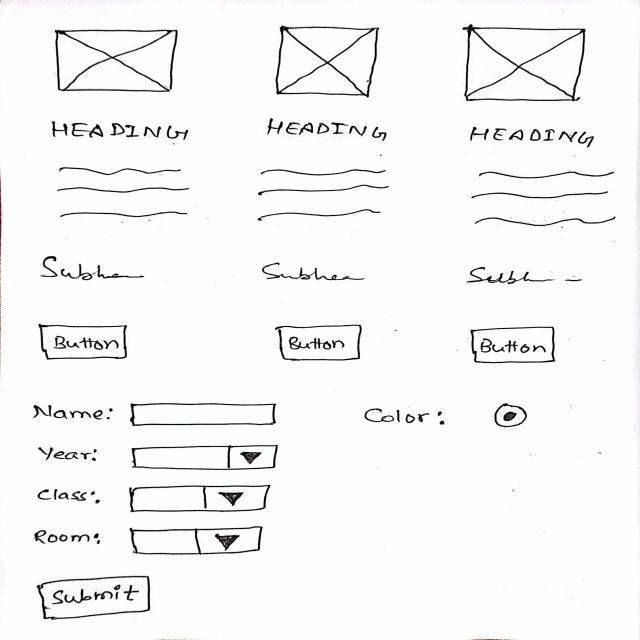radio: (492, 402, 535, 433)
textbox: (126, 398, 291, 430)
